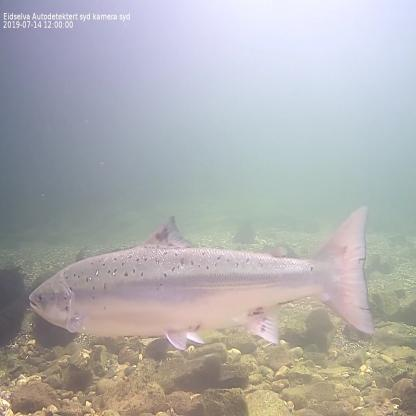salmon: (27, 202, 378, 352)
